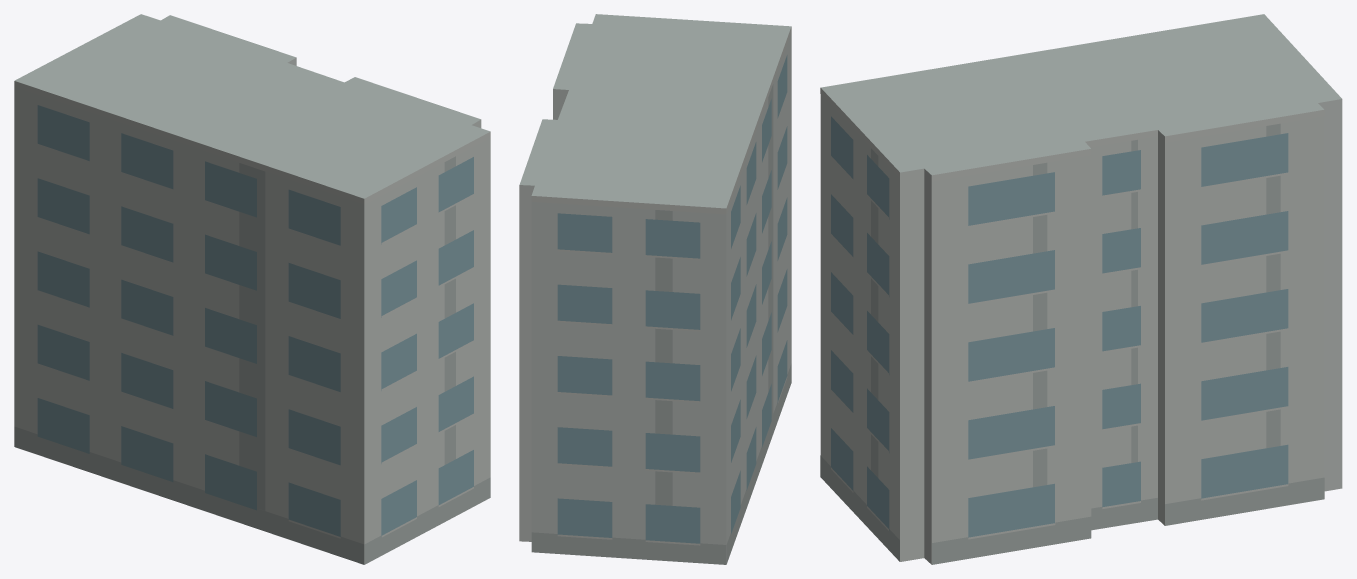
The model's file is survey-upis-32963248.glb.
3 views of the same model, side by side, from view 1: azimuth 30°, elevation 25°; view 2: azimuth 150°, elevation 25°; view 3: azimuth 270°, elevation 25° (orthographic). The views are drawn at different scales.
Visible parts, largest first — view 1: survey-upis-32963248.tmp; view 2: survey-upis-32963248.tmp; view 3: survey-upis-32963248.tmp.
Part boxes in pixels (box(x1,y1,x2,y2)): survey-upis-32963248.tmp: box(14, 14, 490, 564); survey-upis-32963248.tmp: box(519, 14, 791, 564); survey-upis-32963248.tmp: box(820, 14, 1342, 564).
Bounding box in the file's own units: 12.84 × 14.45 × 17.55.
